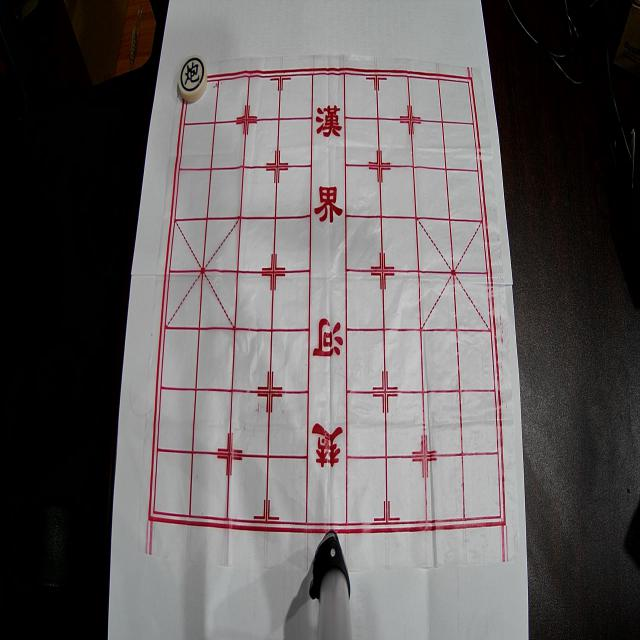black-cannon: (178, 55, 208, 102)
